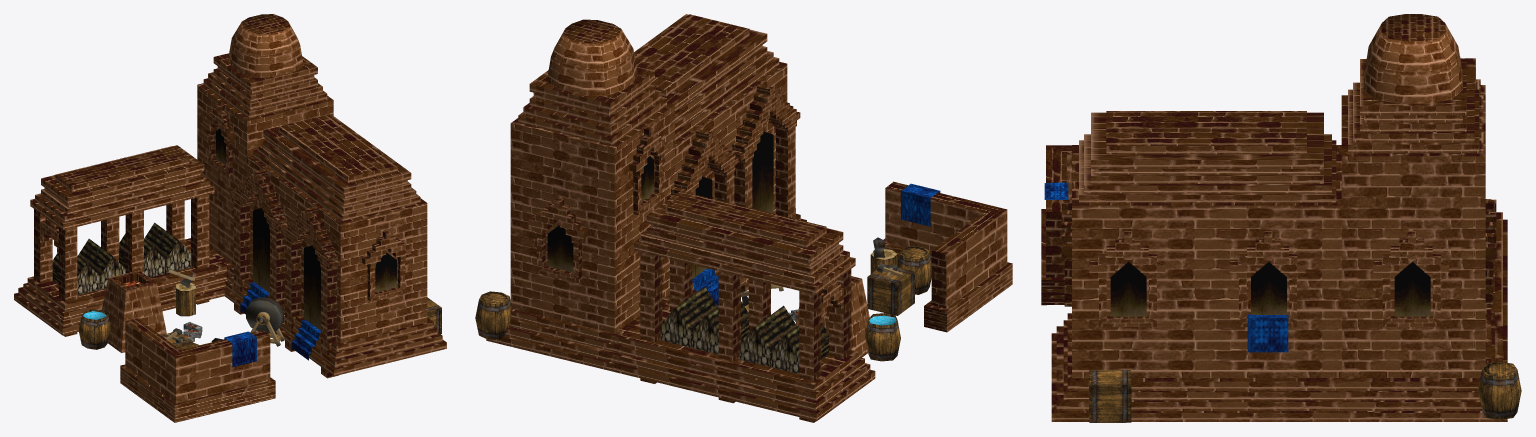
Rendered from forge.dae.
3 views of the same model, side by side, from view 1: azimuth 30°, elevation 25°; view 2: azimuth 150°, elevation 25°; view 3: azimuth 270°, elevation 25° (orthographic). The views are drawn at different scales.
Visible parts, largest first — view 1: forge; view 2: forge; view 3: forge.
Part boxes in pixels (bbox=[...]): forge: bbox=[14, 14, 446, 422]; forge: bbox=[475, 14, 1012, 422]; forge: bbox=[1041, 14, 1521, 422].
Bounding box in the file's own units: 19.52 × 19.76 × 16.82.
Materials: 1 (1 with a texture image).
